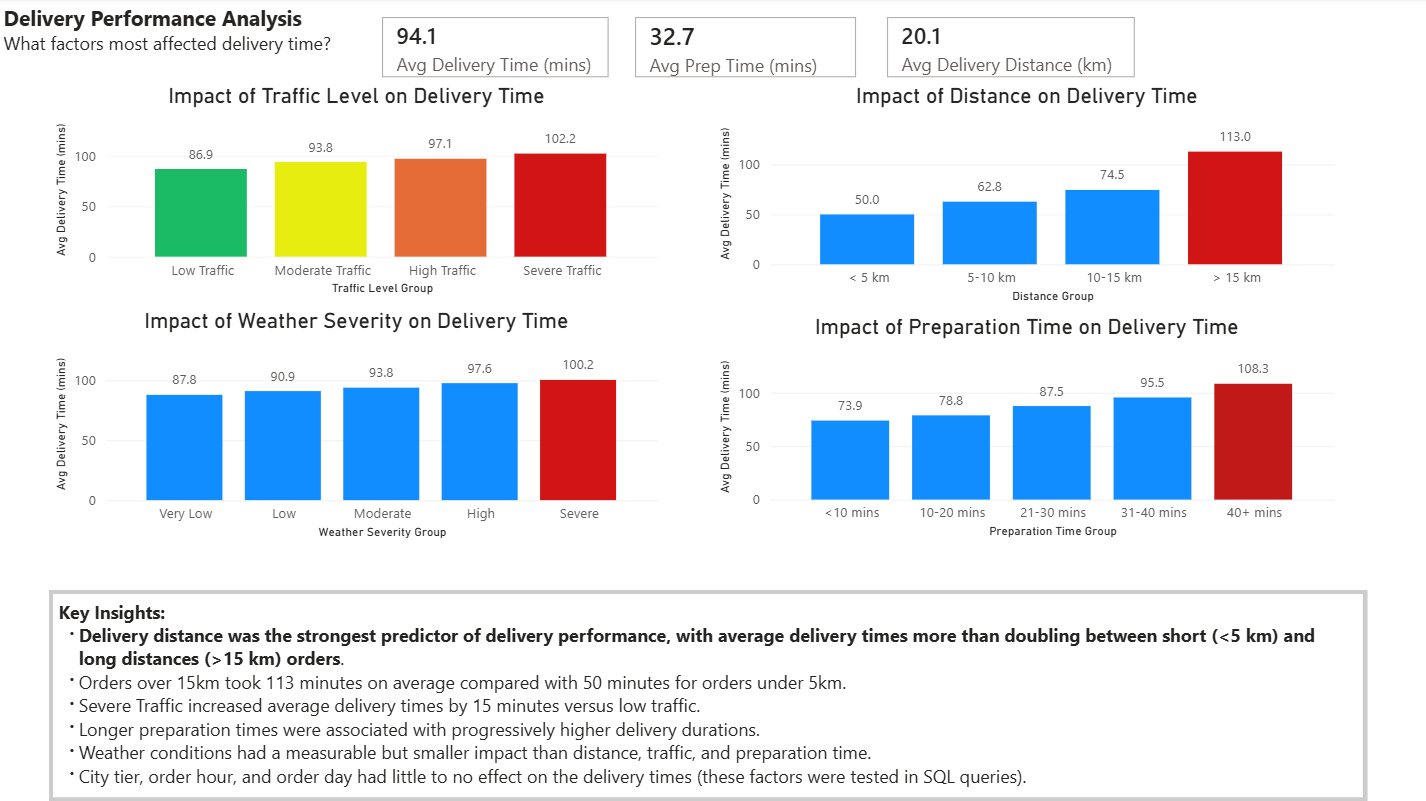

The page's visual inventory and layout, read from the dashboard file:
{"tool":"powerbi","page":{"name":"Delivery Performance Analysis","canvas":[1280,720],"ordinal":1},"visuals":[{"type":"cardVisual","fields":{"Data":["food_delivery_data.Avg Delivery Time"]},"box":[326.8,0,237.3,88.5],"z":0},{"type":"textbox","box":[0,0,315.1,65.2],"z":1000},{"type":"cardVisual","fields":{"Data":["food_delivery_data.Avg Delivery Distance"]},"box":[779.1,0,256.8,88.5],"z":4000},{"type":"clusteredColumnChart","title":"Impact of Weather Severity on Delivery Time","fields":{"Category":["food_delivery_data.Weather Severity Group"],"Y":["food_delivery_data.Avg Delivery Time (mins)"]},"box":[45.7,277.2,550.5,211.1],"z":6000},{"type":"clusteredColumnChart","title":"Impact of Preparation Time on Delivery Time","fields":{"Category":["food_delivery_data.Preparation Time Group"],"Y":["food_delivery_data.Avg Delivery Time (mins)"]},"box":[640,283,562.2,205.2],"z":7000},{"type":"shape","box":[45.7,530.1,1180.8,189.7],"z":8000},{"type":"cardVisual","fields":{"Data":["food_delivery_data.Avg Prep Time (mins)"]},"box":[553.4,0,232.5,88.5],"z":8500},{"type":"textbox","box":[49.6,534,1173,181.9],"z":9000},{"type":"clusteredColumnChart","title":"Impact of Distance on Delivery Time","fields":{"Y":["food_delivery_data.Avg Delivery Time (mins)"],"Category":["food_delivery_data.Distance Group"]},"box":[640,75.9,562.2,201.3],"z":9500},{"type":"clusteredColumnChart","title":"Impact of Traffic Level on Delivery Time","fields":{"Y":["food_delivery_data.Avg Delivery Time (mins)"],"Category":["food_delivery_data.Traffic Level Group"]},"box":[45.7,75.9,550.5,194.5],"z":10000}]}

Visuals, with their boxes in screenshot pixels (x1, y1, x2, y2), scaled from the page's 1280x720 canvas onto the 1426x801 screenshot:
cardVisual - food_delivery_data.Avg Delivery Time: box=[364, 0, 628, 98]
textbox: box=[0, 0, 351, 73]
cardVisual - food_delivery_data.Avg Delivery Distance: box=[868, 0, 1154, 98]
"Impact of Weather Severity on Delivery Time" clusteredColumnChart: box=[51, 308, 664, 543]
"Impact of Preparation Time on Delivery Time" clusteredColumnChart: box=[713, 315, 1339, 543]
shape: box=[51, 590, 1366, 800]
cardVisual - food_delivery_data.Avg Prep Time (mins): box=[617, 0, 876, 98]
textbox: box=[55, 594, 1362, 796]
"Impact of Distance on Delivery Time" clusteredColumnChart: box=[713, 84, 1339, 308]
"Impact of Traffic Level on Delivery Time" clusteredColumnChart: box=[51, 84, 664, 301]
